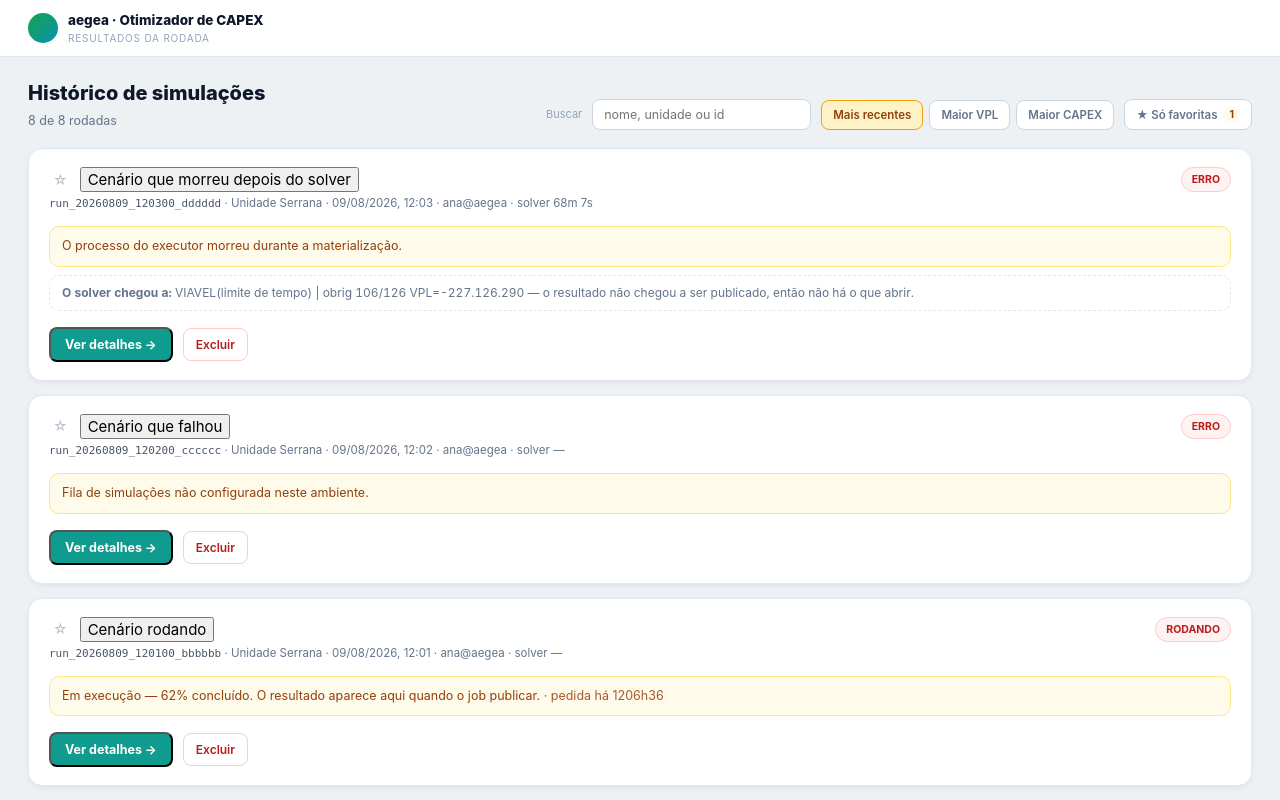
Test case: histórico com rodadas em voo › a rodada em voo ABRE os detalhes, mas não deixa ir ao resultado
The width and height of the screenshot is (1280, 800).
Expected: the button "Cenário rodando" is shown, 80,617 -> 214,642
Click the button "Ver detalhes →" below "run_20260809_120300_dddddd" at (111, 344), box 49,327 -> 173,362
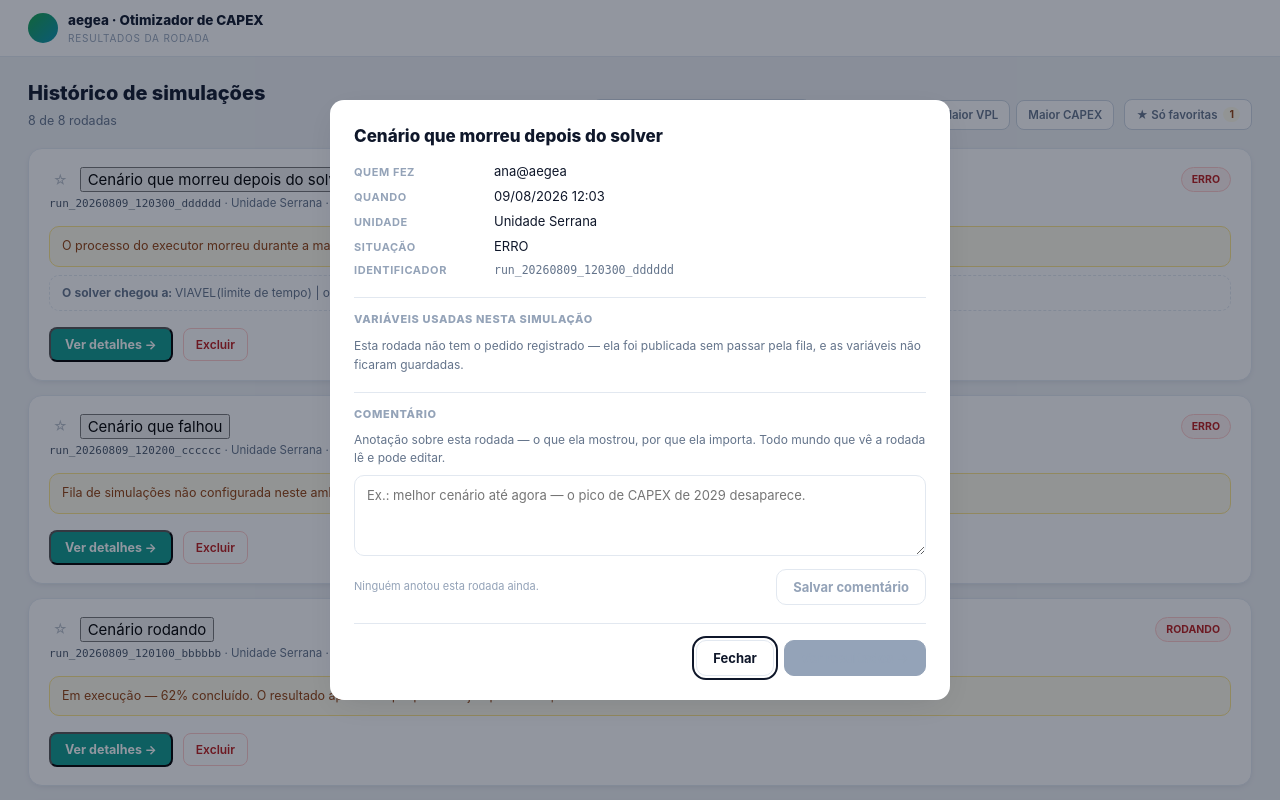
Now the button "Ver resultados →" is disabled, box 784,640 -> 926,676
Now the button "Fechar" is shown, box 696,640 -> 774,676
